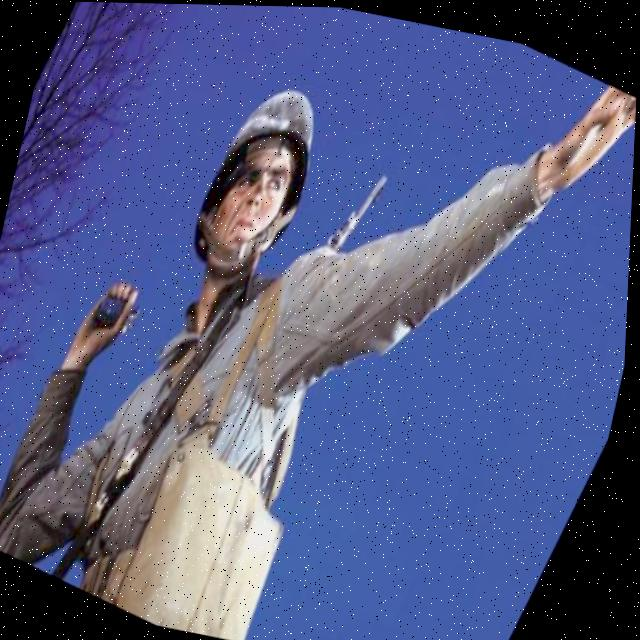grenade: (84, 274, 156, 350)
